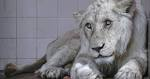lion: (42, 2, 142, 78)
